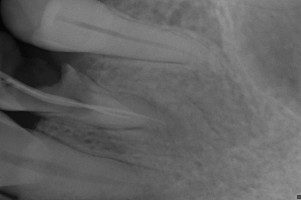Furcation Involvement: (130, 93, 188, 140)
